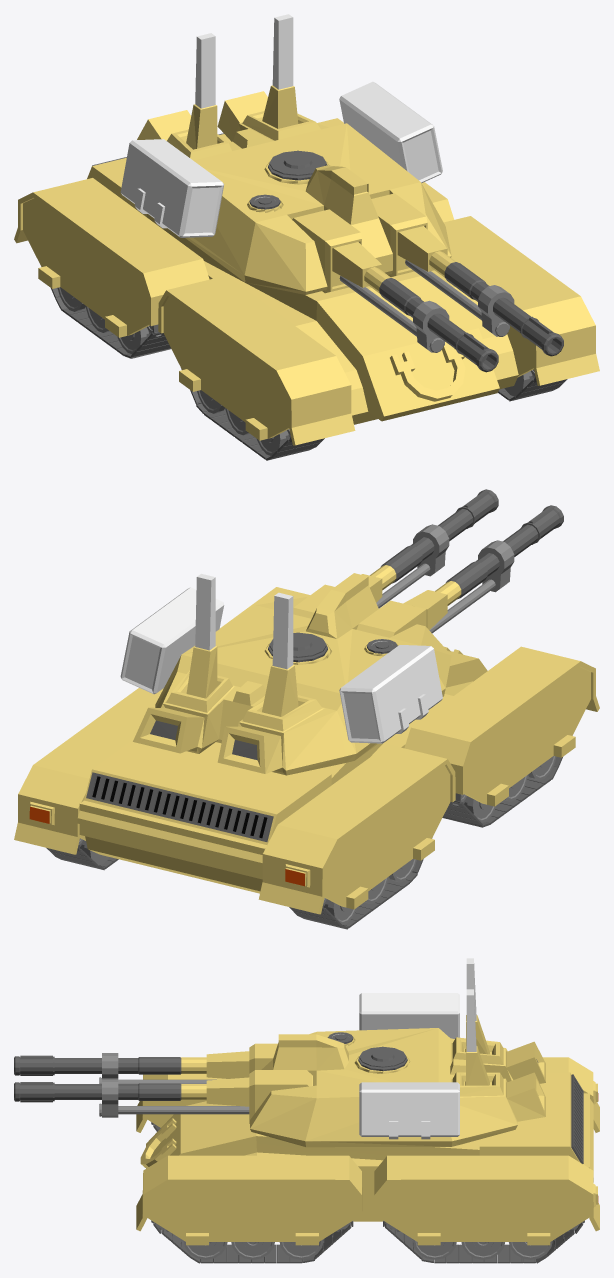
File: MammothTank_LowYellow.fbx
The picture shows the model from 3 angles, top to bottom: view 1: azimuth 30°, elevation 25°; view 2: azimuth 150°, elevation 25°; view 3: azimuth 270°, elevation 25°; orthographic projection. The views are drawn at different scales.
Parts seen in each view (by area): view 1: Body.001, Tower, Canoon2, Cannon1; view 2: Body.001, Tower, Canoon2, Cannon1; view 3: Body.001, Tower, Cannon1, Canoon2.
Part boxes in pixels (x1,y1,x2,y2): Body.001: (14, 118, 599, 460); Tower: (120, 14, 451, 294); Canoon2: (292, 209, 498, 372); Cannon1: (371, 193, 563, 356); Body.001: (14, 587, 599, 929); Tower: (120, 573, 451, 775); Canoon2: (356, 505, 563, 637); Cannon1: (293, 489, 498, 618); Body.001: (136, 1057, 599, 1263); Tower: (250, 958, 545, 1147); Cannon1: (14, 1070, 312, 1123); Canoon2: (14, 1043, 277, 1083).
Size of the model in its own units: 333 by 281 by 650.
